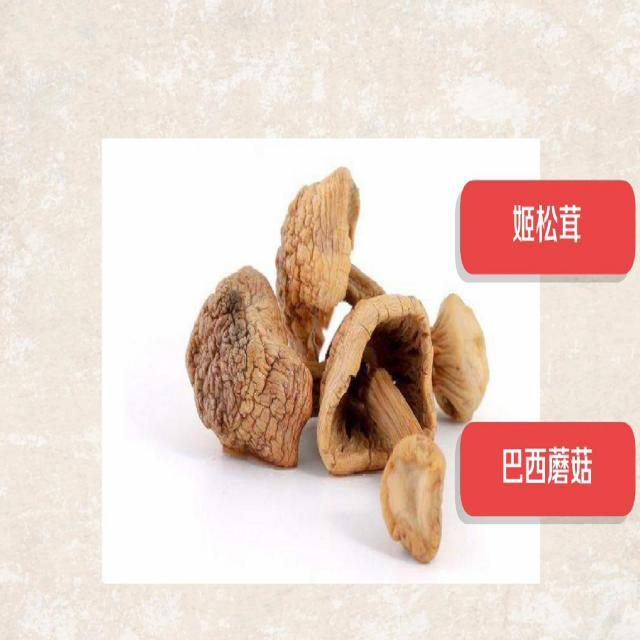Agaricus blazei Murill: (281, 165, 487, 420), (319, 292, 444, 561), (188, 261, 311, 464)
